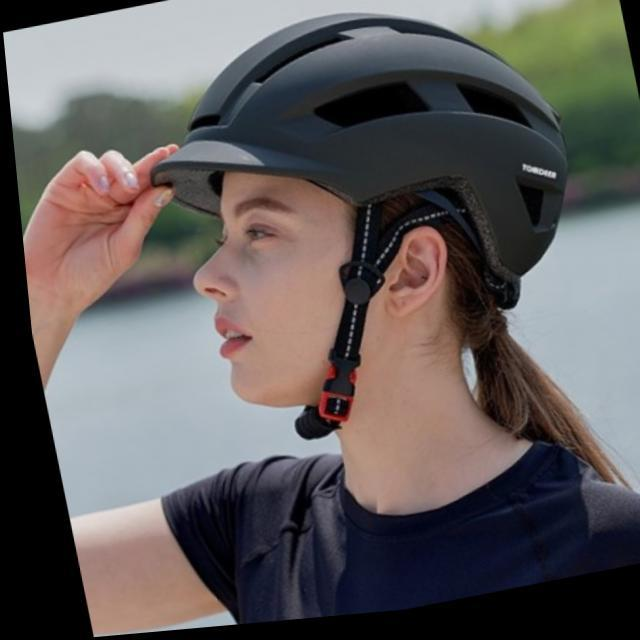Helmet: (140, 5, 578, 419)
